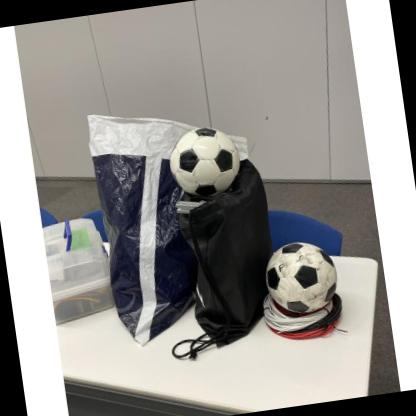ball: (261, 237, 340, 319), (164, 123, 242, 199)
